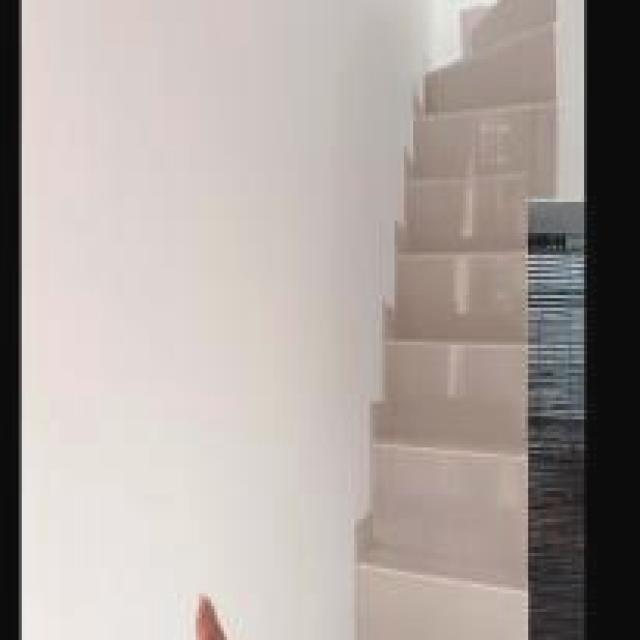upstair: (386, 144, 545, 640)
